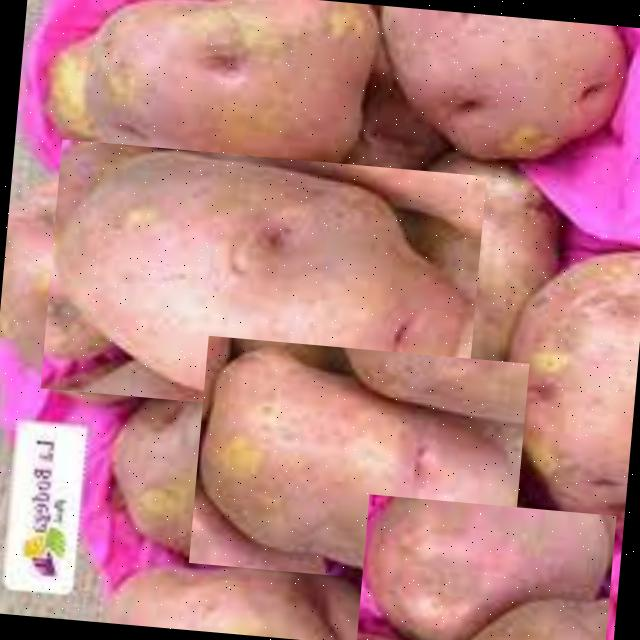Defected potato: (40, 138, 486, 424), (188, 334, 530, 590), (64, 0, 390, 208), (488, 234, 640, 532), (356, 493, 616, 640)
